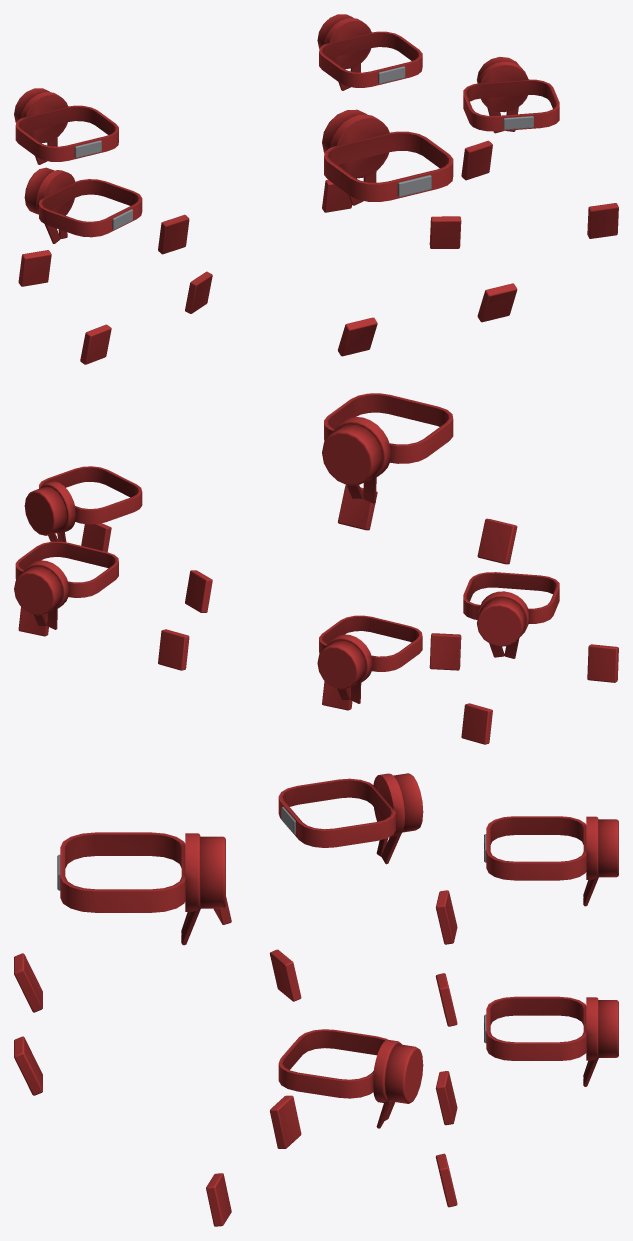
The model's file is tub-ninjas-lod0.glb.
The picture shows the model from 3 angles, top to bottom: view 1: azimuth 30°, elevation 25°; view 2: azimuth 150°, elevation 25°; view 3: azimuth 270°, elevation 25°; orthographic projection. The views are drawn at different scales.
Visible parts, largest first — view 1: cap_hat, att3_hat, att1_hat, att0_hat, att2_hat, cap_arm_l_trim, cap_arm_r_trim, att2_arm_l_trim, att2_arm_r_trim, att1_arm_r_trim, att1_arm_l_trim, att0_arm_l_trim (+3 smaller); view 2: cap_hat, att1_hat, att0_hat, att3_hat, att2_hat, cap_arm_r_trim, att3_arm_r_trim, att3_arm_l_trim, cap_arm_l_trim, att1_arm_r_trim, att0_arm_r_trim, att2_arm_r_trim (+3 smaller); view 3: cap_hat, att3_hat, att2_hat, att1_hat, att0_hat, att2_arm_r_trim, att3_arm_l_trim, cap_arm_l_trim, cap_arm_r_trim, att2_arm_l_trim, att0_arm_r_trim, att1_arm_r_trim.
Boxes of the visible parts, x1,y1,x2,y2 form: cap_hat: (322,109,453,205); att3_hat: (24,167,142,243); att1_hat: (14,88,118,164); att0_hat: (317,14,422,90); att2_hat: (463,57,559,133); cap_arm_l_trim: (477,283,517,322); cap_arm_r_trim: (338,317,377,356); att2_arm_l_trim: (587,203,618,238); att2_arm_r_trim: (429,216,461,248); att1_arm_r_trim: (18,250,51,286); att1_arm_l_trim: (158,214,189,254); att0_arm_l_trim: (461,140,492,180); cap_hat: (322,393,453,503); att1_hat: (317,615,422,703); att0_hat: (14,541,118,629); att3_hat: (463,572,559,658); att2_hat: (24,466,142,542); cap_arm_r_trim: (477,518,517,564); att3_arm_r_trim: (587,644,618,682); att3_arm_l_trim: (429,633,461,670); cap_arm_l_trim: (338,485,377,530); att1_arm_r_trim: (461,703,492,744); att0_arm_r_trim: (158,629,189,670); att2_arm_r_trim: (185,570,212,612); cap_hat: (57,832,225,945); att3_hat: (278,773,423,864); att2_hat: (278,1029,423,1128); att1_hat: (484,816,618,906); att0_hat: (484,996,618,1086); att2_arm_r_trim: (270,1095,301,1148); att3_arm_l_trim: (269,949,301,1001); cap_arm_l_trim: (14,1036,42,1095); cap_arm_r_trim: (14,953,42,1012); att2_arm_l_trim: (206,1173,231,1226); att0_arm_r_trim: (435,1071,457,1125); att1_arm_r_trim: (435,890,457,944).
Bounding box in the file's own units: 2.19 × 0.7446 × 1.76.
